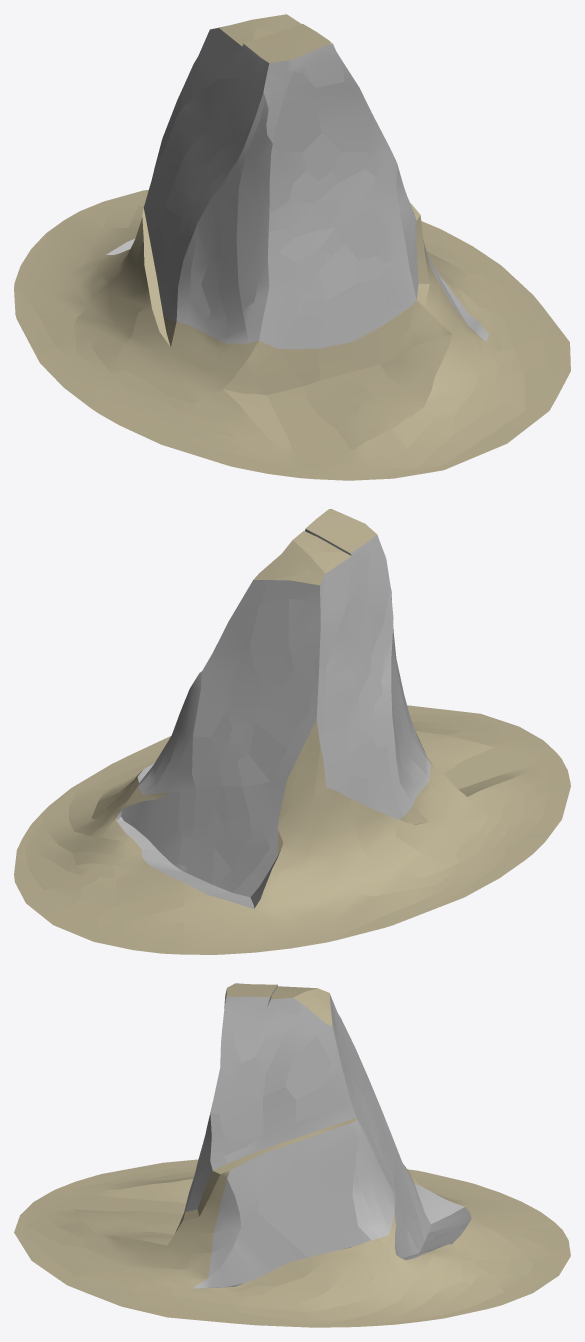
Rendered from rock_beach_hero_A.fbx.
3 renders of one model, top to bottom at view 1: azimuth 30°, elevation 25°; view 2: azimuth 150°, elevation 25°; view 3: azimuth 270°, elevation 25°, orthographic. The views are drawn at different scales.
Parts seen in each view (by area): view 1: rock_beach_hero_A; view 2: rock_beach_hero_A; view 3: rock_beach_hero_A.
Boxes of the visible parts, x1=… form: rock_beach_hero_A: x1=14, y1=14, x2=570, y2=480; rock_beach_hero_A: x1=14, y1=509, x2=570, y2=954; rock_beach_hero_A: x1=14, y1=983, x2=570, y2=1327.
Size of the model in its own units: 565 by 380 by 780.
